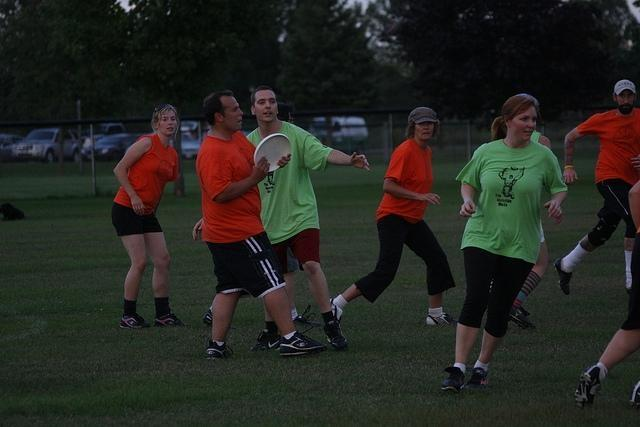car: (12, 128, 80, 163), (305, 116, 369, 146), (80, 132, 142, 162), (81, 132, 106, 157), (182, 131, 201, 159), (98, 123, 128, 134), (1, 135, 18, 154), (180, 119, 199, 132)
